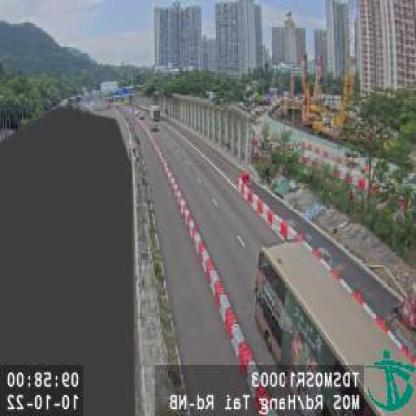Bus: (256, 241, 416, 416)
